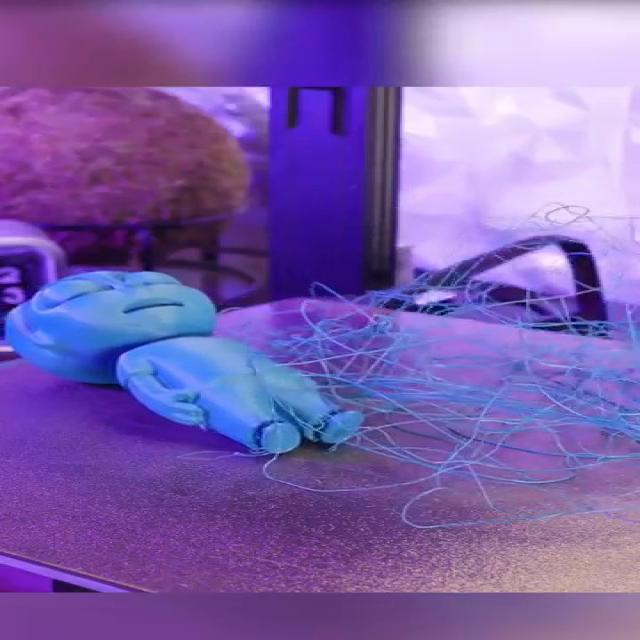spaghetti: (234, 263, 640, 547)
